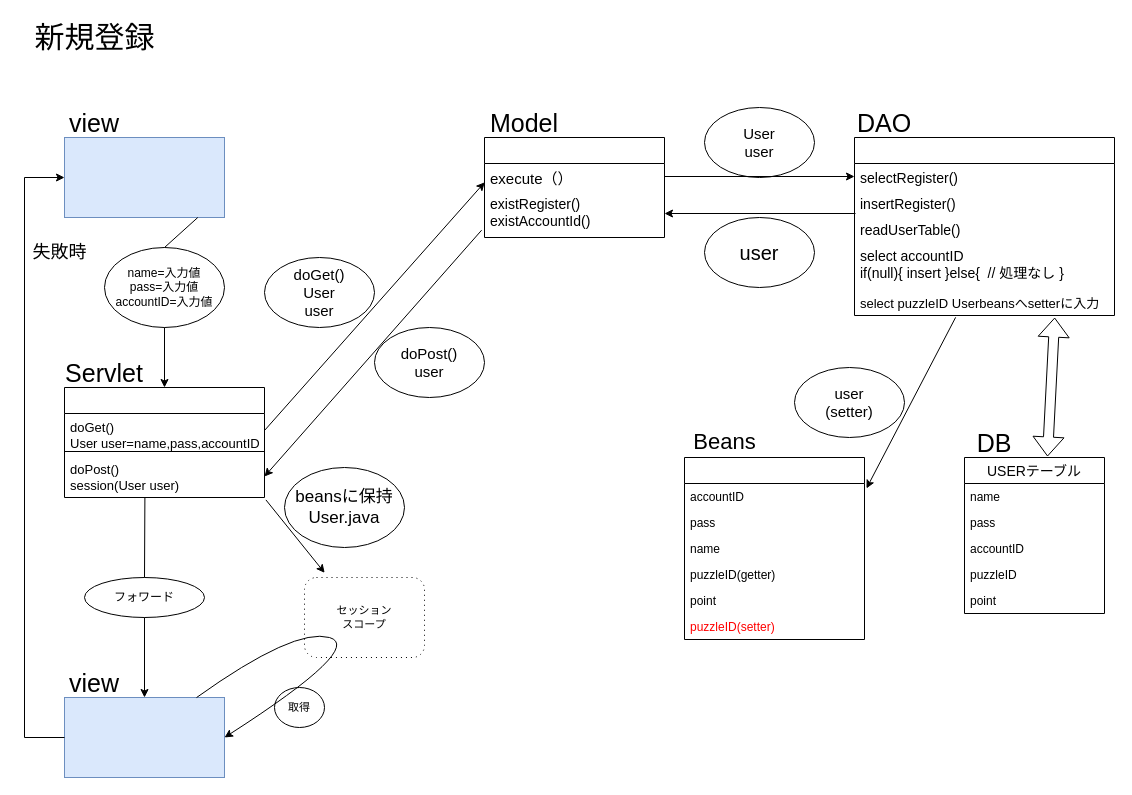
Image size: 1132x795. Some labels were removed from this diagram. The shapes that lost their labels are listed below. From the top down, each one's box as (x1, y1, x2, y2) in pixels, then its label:
(64, 136, 224, 218): register.jsp
(484, 136, 664, 238): registerLogic.java
(854, 136, 1114, 316): RegisterDAO.java
(64, 386, 264, 498): RegisterServlet.java
(684, 456, 864, 640): User.java
(64, 696, 224, 778): registerResult.jsp
